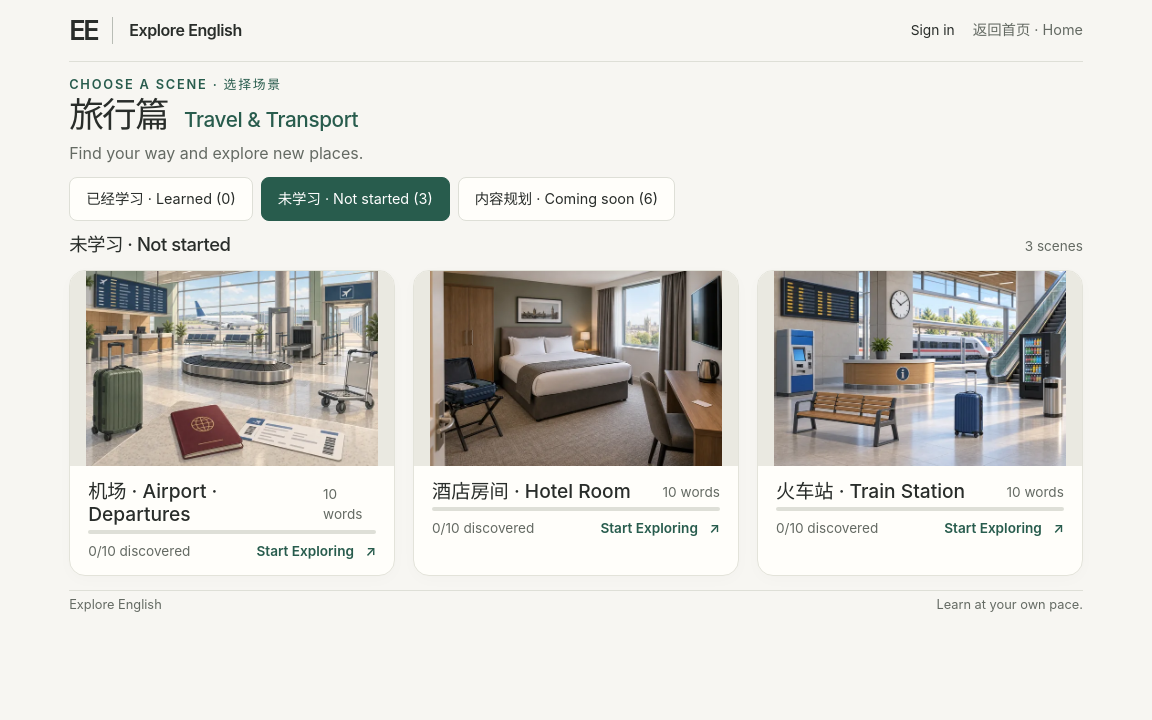
Test: paged content and result dialogs › separates learned, not-started and planned scenes without category pagination
This screenshot has width=1152, height=720.
Expected: the tab "已经学习 · Learned (0)" is shown, [69,177,253,221]
Expected: the link with aria-label "Airport · Departures · Start Exploring" is shown, [69,270,395,576]
Click the tab "内容规划 · Coming soon (6)" at (566, 199), box [458,177,675,221]
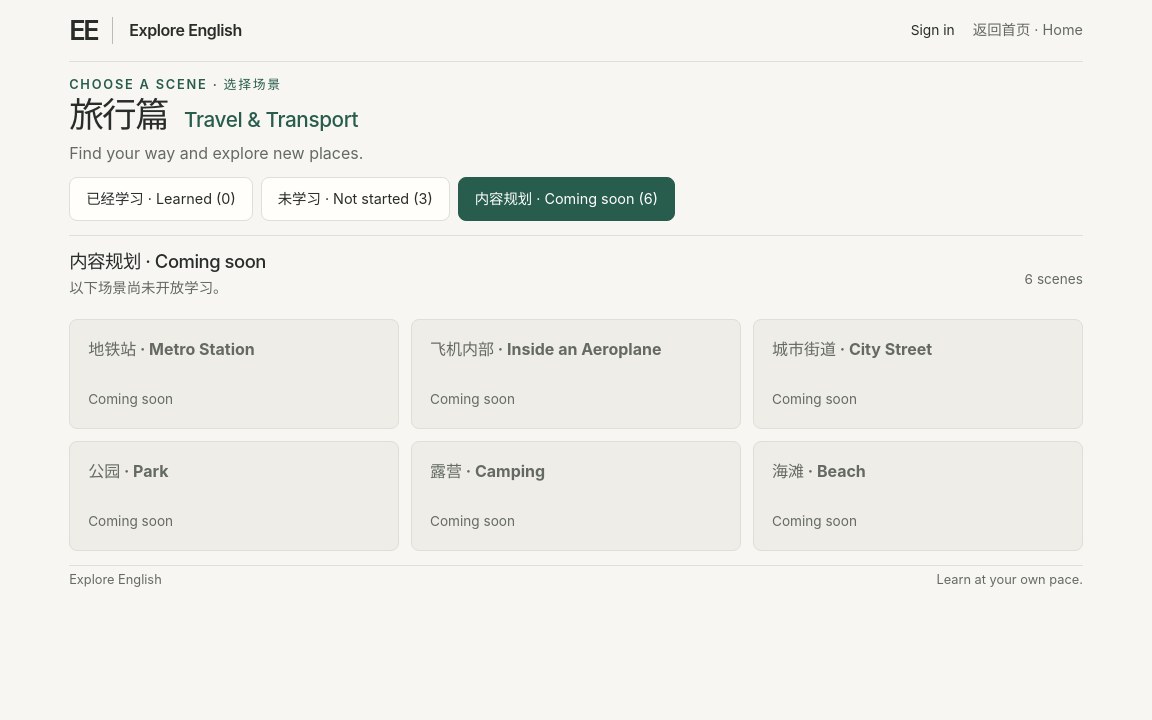
Result: the text "地铁站 · Metro Station" is shown at [88,339,255,359]
Result: the text "海滩 · Beach" is shown at [772,461,866,481]
Click the tab "已经学习 · Learned (0)" at (161, 199), box [69,177,253,221]
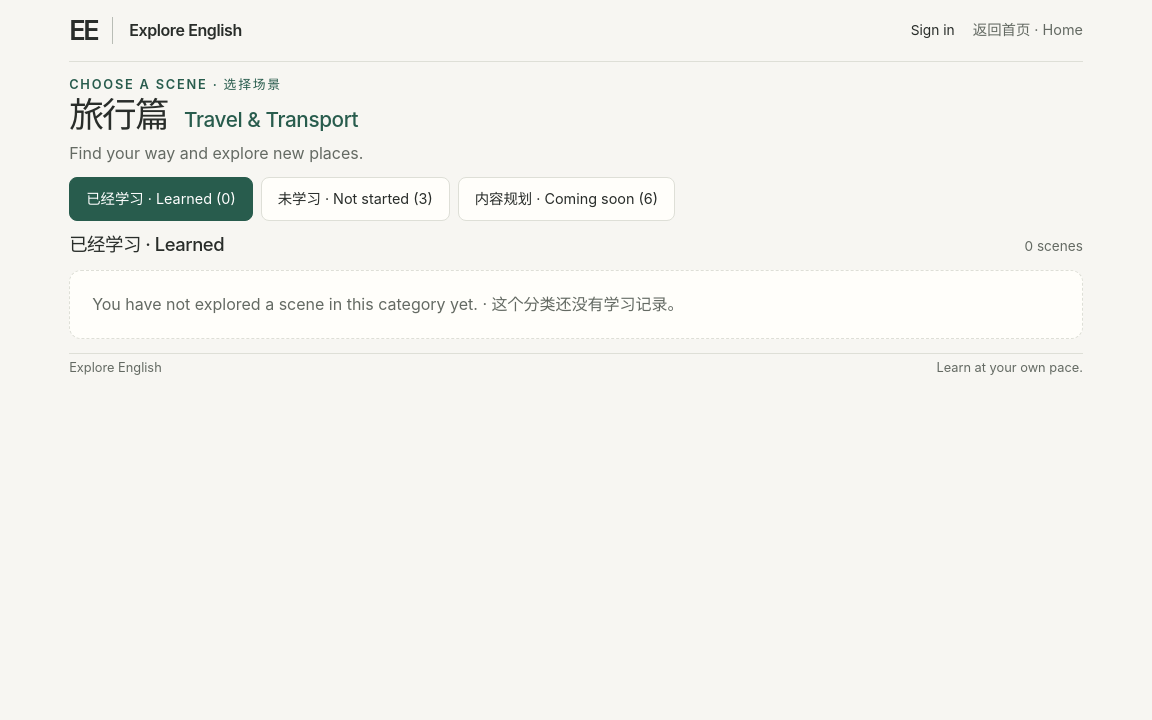
Result: the text "这个分类还没有学习记录" is shown at [92,294,684,314]
